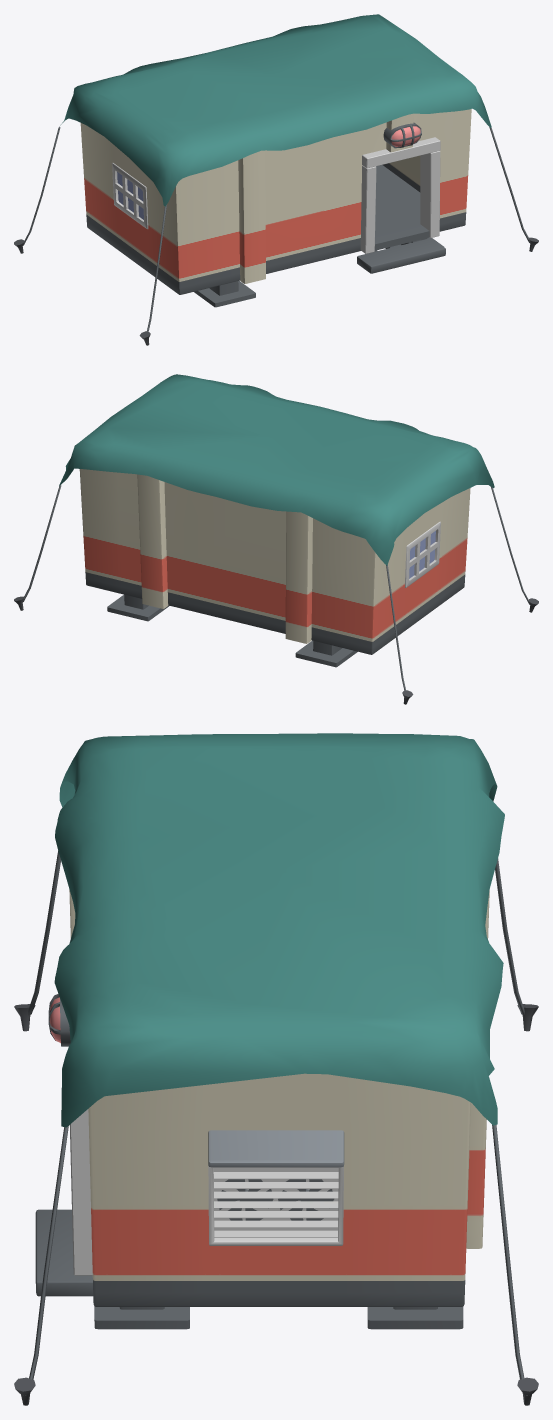
The model's file is MoreHouse.fbx.
3 views of the same model, one above another, from view 1: azimuth 30°, elevation 25°; view 2: azimuth 150°, elevation 25°; view 3: azimuth 270°, elevation 25° (orthographic). The views are drawn at different scales.
Visible parts, largest first — view 1: SM_MoreHouse__Top, SM_MoreHouse__Bottom; view 2: SM_MoreHouse__Top, SM_MoreHouse__Bottom; view 3: SM_MoreHouse__Top, SM_MoreHouse__Bottom.
Boxes of the visible parts, <box> form: SM_MoreHouse__Top: <box>14,14,538,345</box>; SM_MoreHouse__Bottom: <box>86,163,466,307</box>; SM_MoreHouse__Top: <box>14,374,538,704</box>; SM_MoreHouse__Bottom: <box>85,572,465,667</box>; SM_MoreHouse__Top: <box>14,733,538,1405</box>; SM_MoreHouse__Bottom: <box>35,1209,483,1329</box>.
Bounding box in the file's own units: 841 × 355 × 482.
